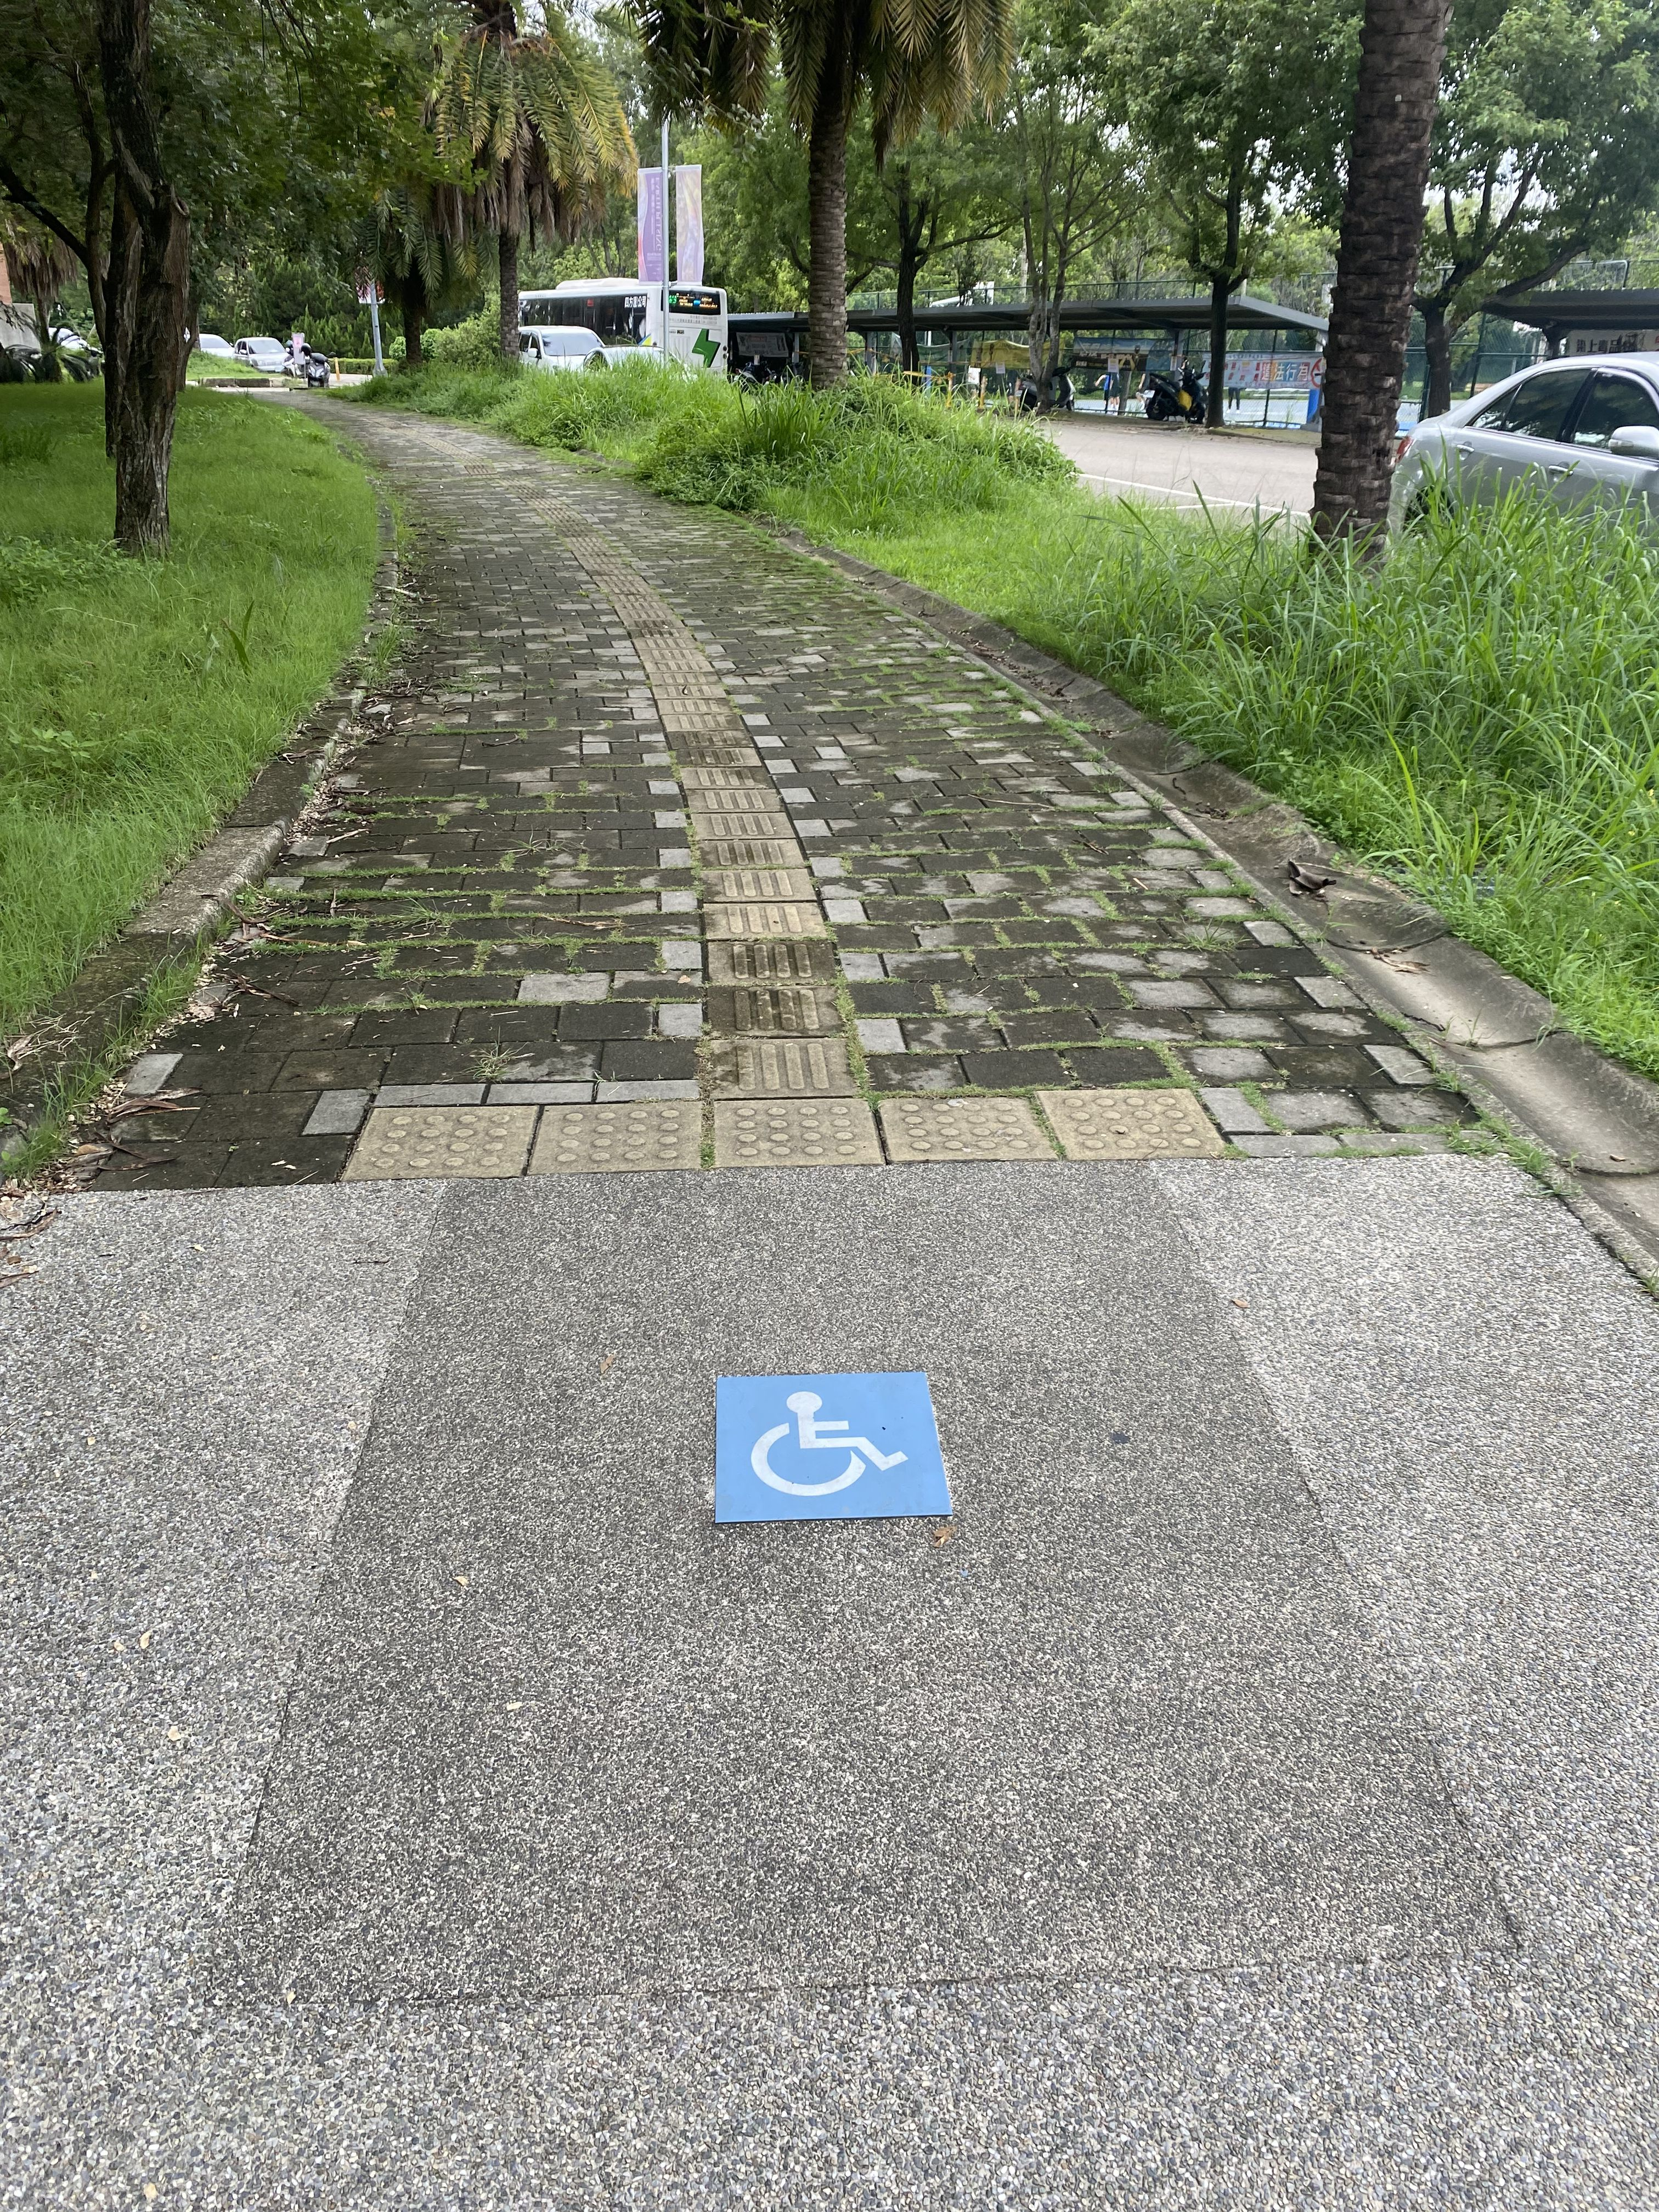sidewalk: (0, 376, 1659, 2212)
